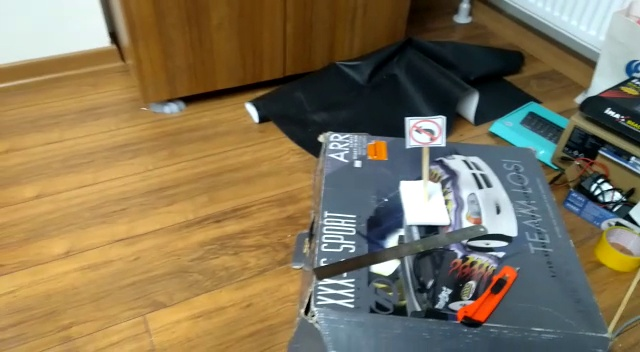sola_donulmez: (409, 117, 443, 147)
